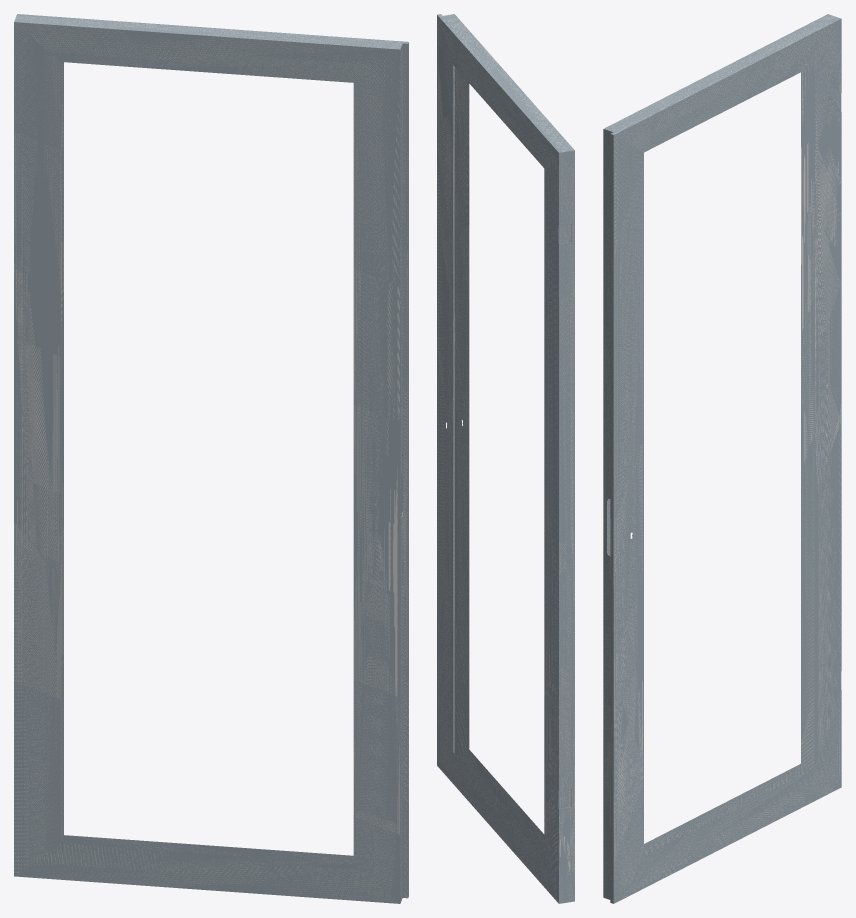
Rendered from doormid.obj.
3 renders of one model, left to right at view 1: azimuth 30°, elevation 25°; view 2: azimuth 150°, elevation 25°; view 3: azimuth 270°, elevation 25°, orthographic. The views are drawn at different scales.
Visible parts, largest first — view 1: group_2.011_ID68.001; view 2: group_2.011_ID68.001; view 3: group_2.011_ID68.001.
Part boxes in pixels (x1=…): group_2.011_ID68.001: x1=14, y1=14, x2=408, y2=903; group_2.011_ID68.001: x1=437, y1=14, x2=574, y2=903; group_2.011_ID68.001: x1=603, y1=14, x2=841, y2=903.
Bounding box in the file's own units: 0.1554 × 0.4599 × 0.129.
